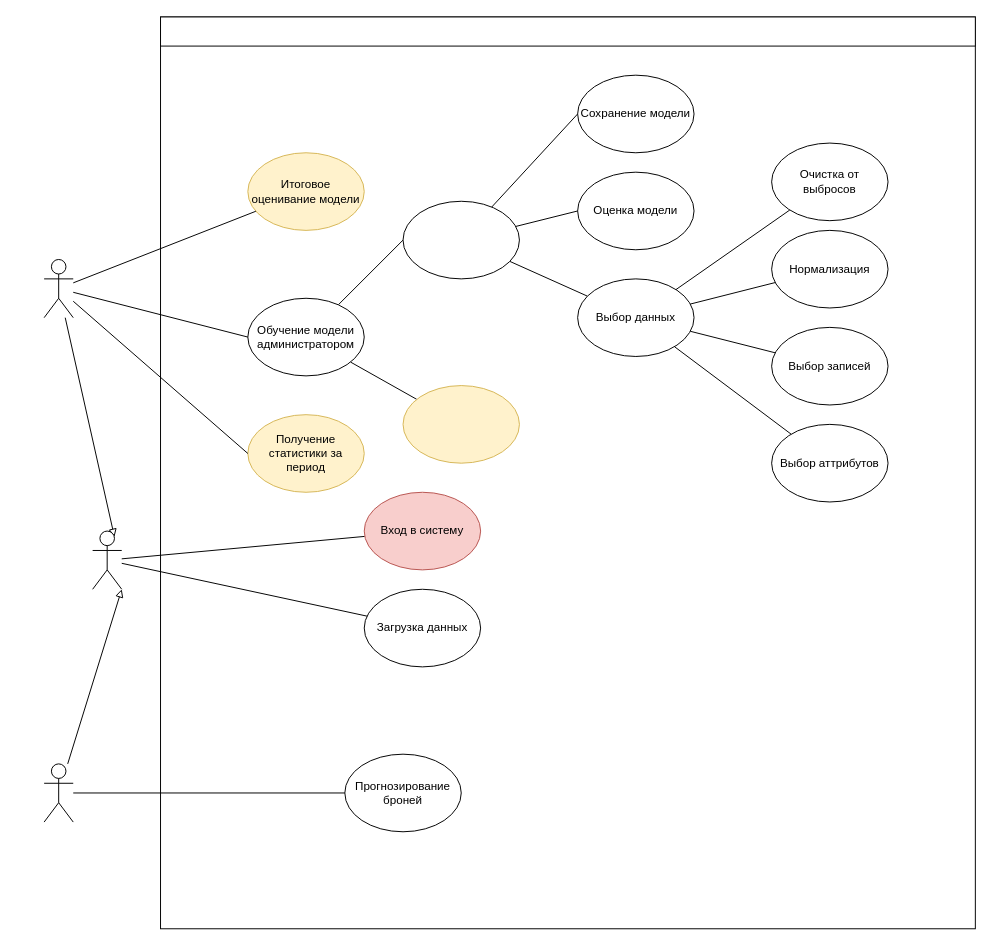
Image size: 992x946. Some labels were removed from this diagram. Each missing label, with the centre of its shape:
"TS" belongs at (567,31).
"Администратор" belongs at (58,288).
"Выбор модели" belongs at (460,424).
"Менеджер" belongs at (58,792).
"Обуение модели" belongs at (460,239).
"Пользователь" belongs at (107,559).
